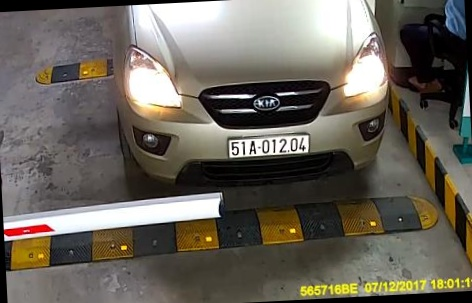plate: (221, 136, 315, 160)
